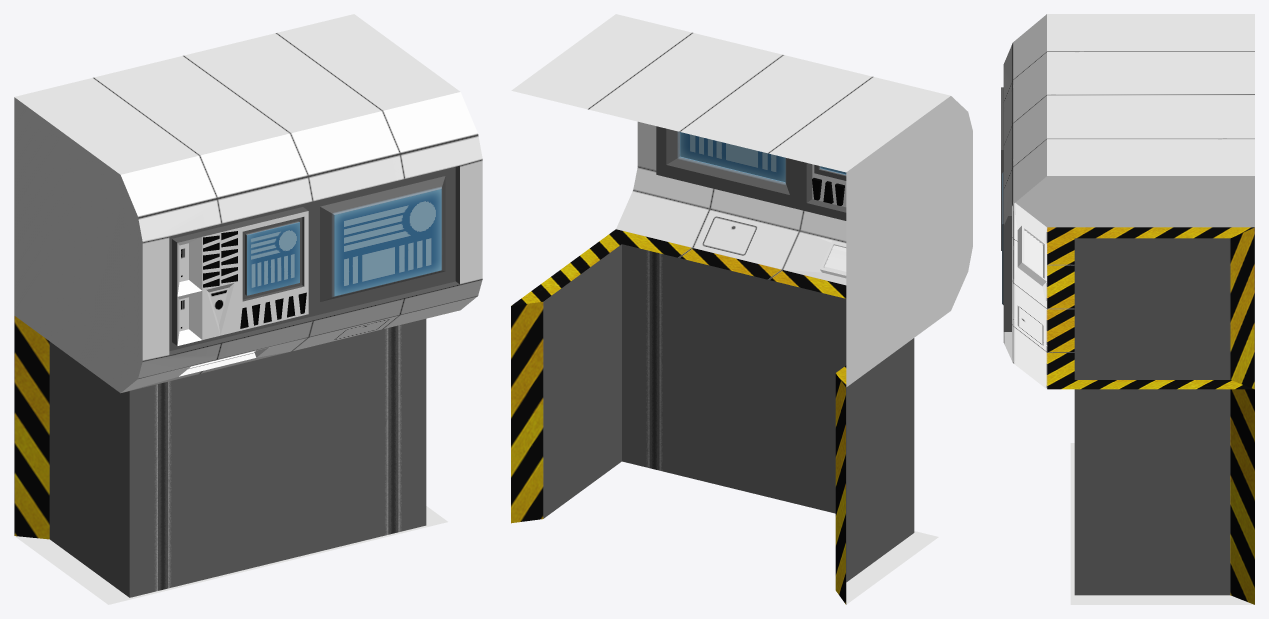
Rendered from Wall_3_Drop_Down.FBX.
The picture shows the model from 3 angles, left to right: view 1: azimuth 30°, elevation 25°; view 2: azimuth 150°, elevation 25°; view 3: azimuth 270°, elevation 25°; orthographic projection. The views are drawn at different scales.
Parts seen in each view (by area): view 1: Plane018; view 2: Plane018; view 3: Plane018.
Part boxes in pixels (left/top/right/bottom): Plane018: left=14, top=14, right=482, bottom=604; Plane018: left=511, top=14, right=972, bottom=604; Plane018: left=1001, top=14, right=1254, bottom=604.
Size of the model in its own units: 134 by 165 by 88.43.
